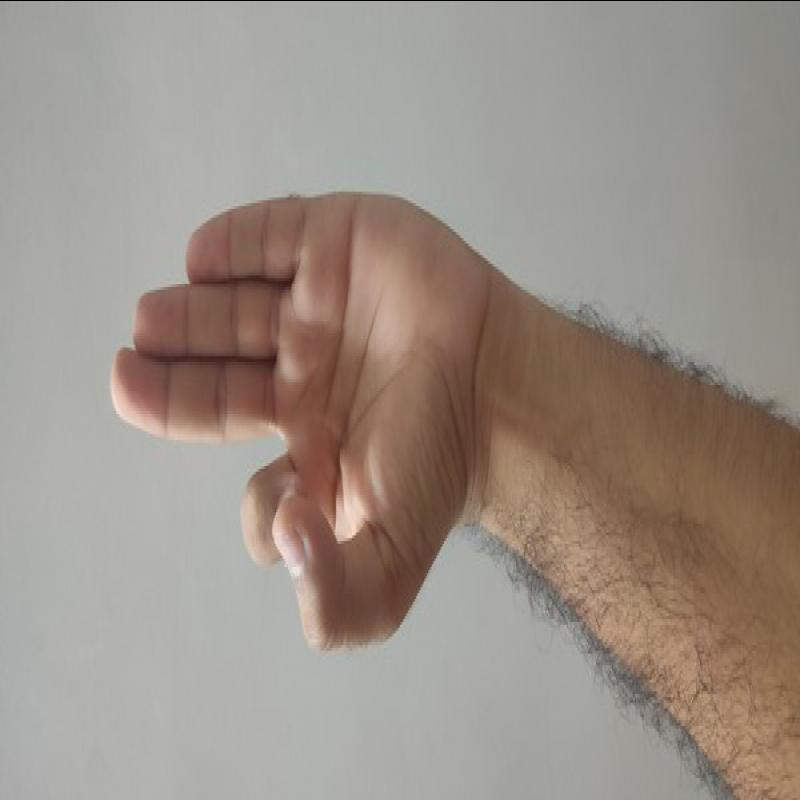Mudraakhyam: (92, 179, 499, 667)
